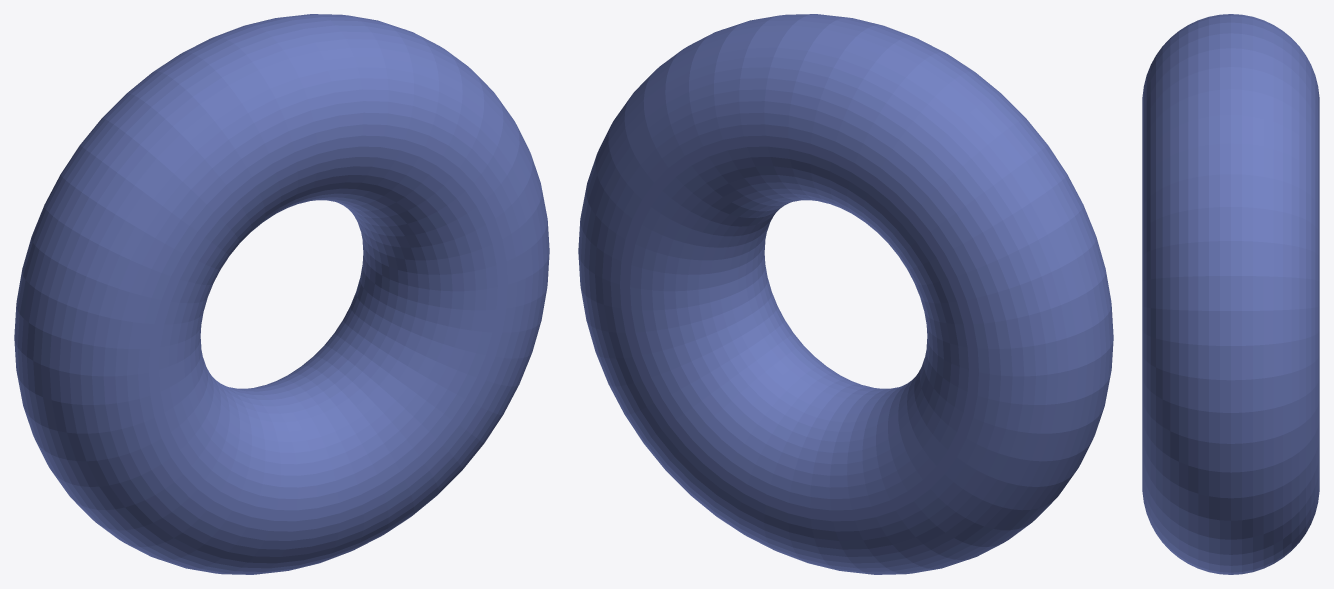
The picture shows the model from 3 angles, left to right: view 1: azimuth 30°, elevation 25°; view 2: azimuth 150°, elevation 25°; view 3: azimuth 270°, elevation 25°; orthographic projection. The views are drawn at different scales.
Parts seen in each view (by area): view 1: world; view 2: world; view 3: world.
Part boxes in pixels (<box>): world: <box>14,14,549,574</box>; world: <box>578,14,1113,574</box>; world: <box>1142,14,1319,574</box>.
Size of the model in its own units: 15.6 by 15.57 by 4.92.
